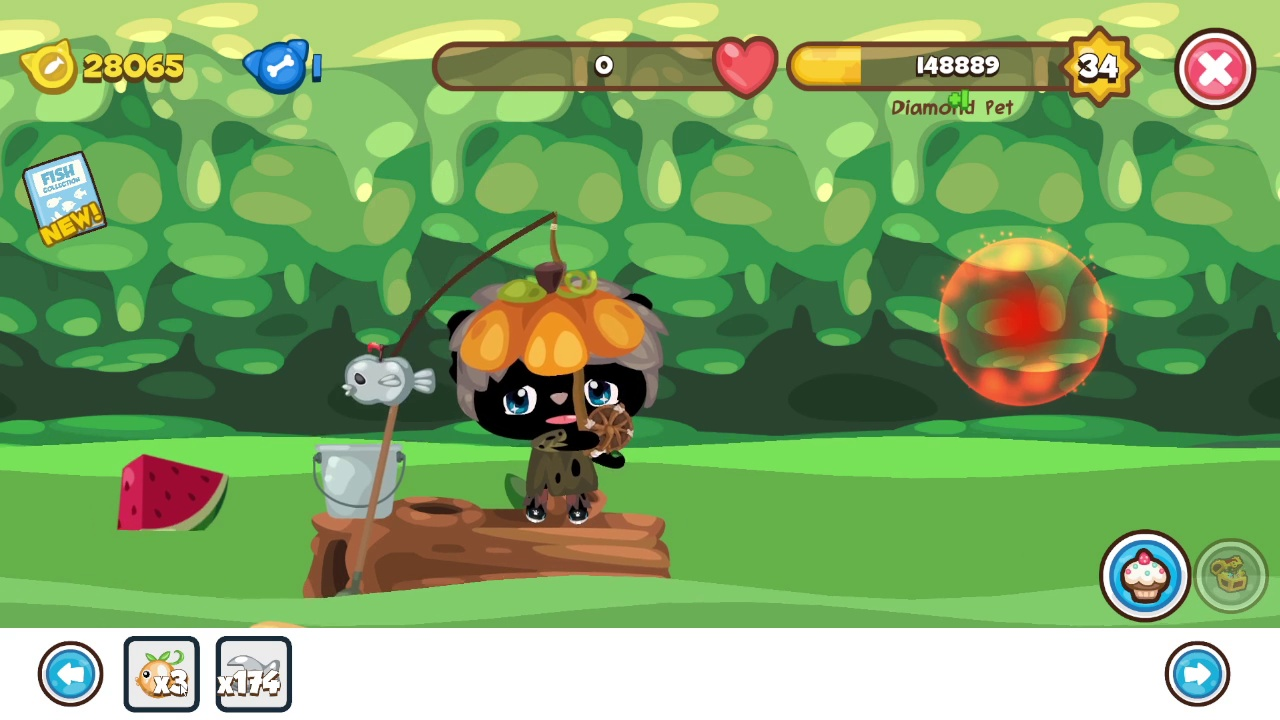point: (937, 234, 1112, 408)
